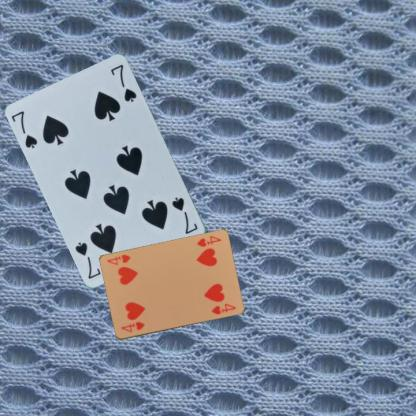4h: (194, 233, 223, 248), (118, 319, 146, 333)
7s: (169, 195, 200, 236), (9, 108, 39, 150)
